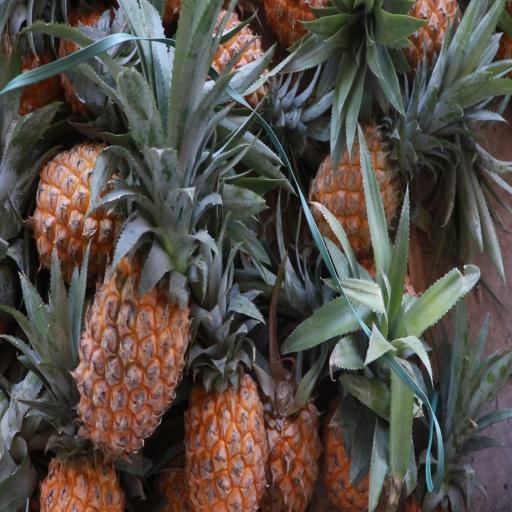Pineapple - v8 v1: (71, 222, 193, 465), (26, 132, 166, 292), (305, 115, 404, 269), (180, 357, 269, 512), (43, 366, 131, 512), (266, 362, 325, 512)
